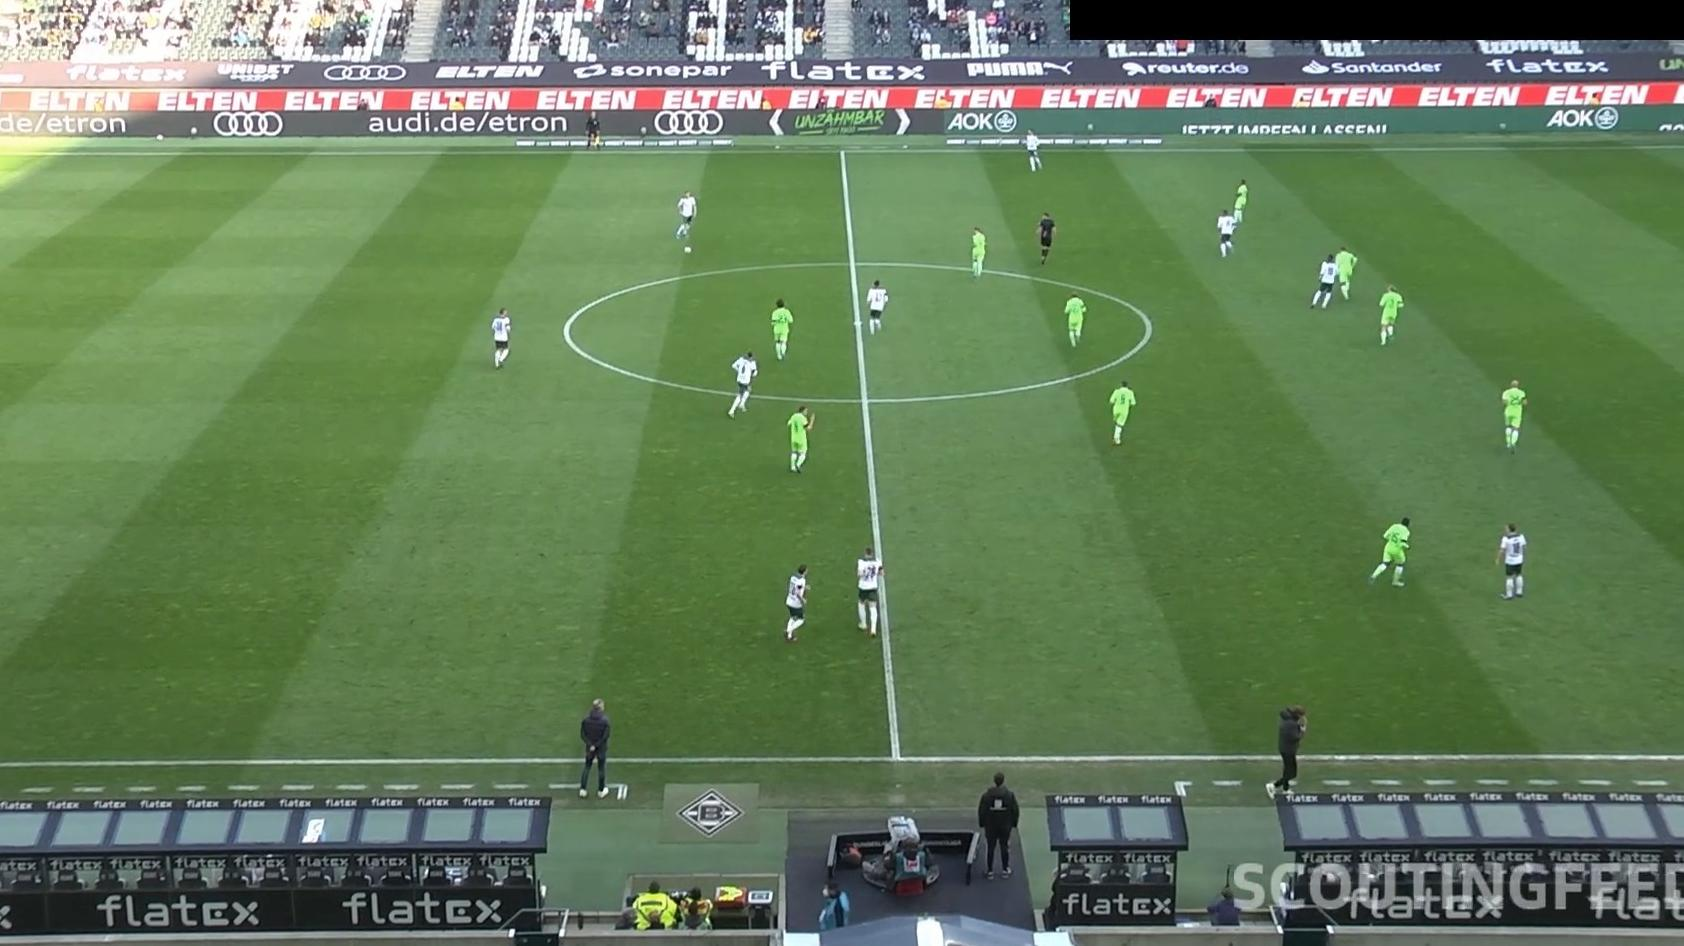ball: (684, 245, 692, 254)
